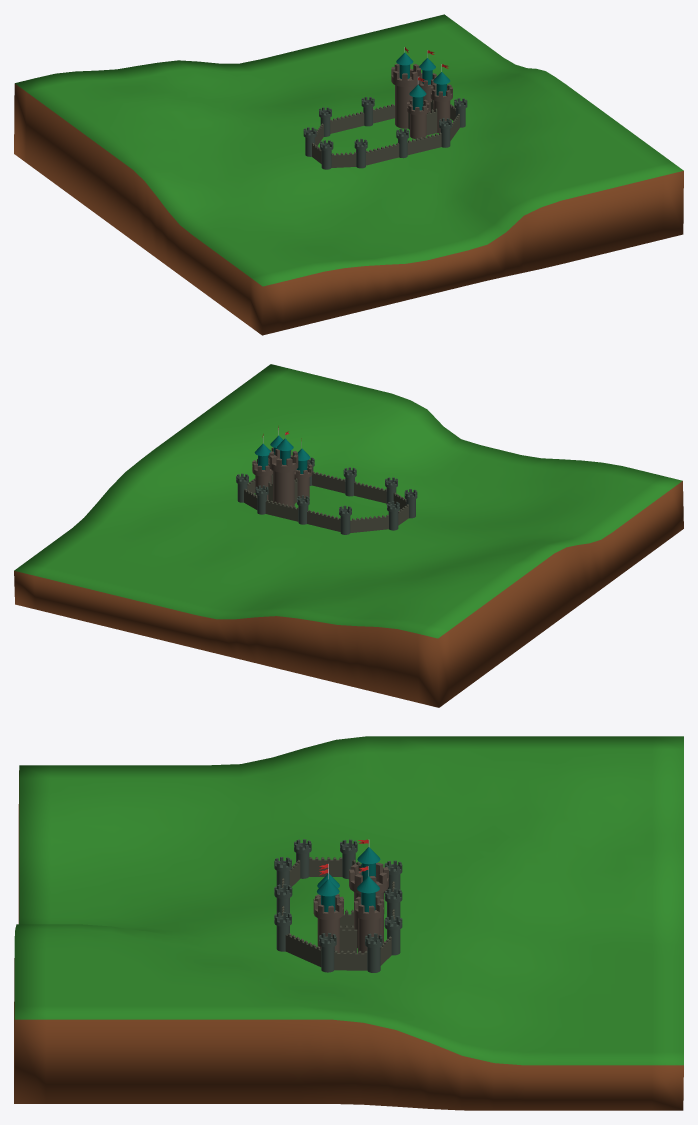
File: castillo.gltf
The picture shows the model from 3 angles, top to bottom: view 1: azimuth 30°, elevation 25°; view 2: azimuth 150°, elevation 25°; view 3: azimuth 270°, elevation 25°; orthographic projection. The views are drawn at different scales.
Parts seen in each view (by area): view 1: Plane, Torre.013, Torre.012, Torre.011; view 2: Plane, Torre.013; view 3: Plane, Torre.010, Torre.011, Torre.013, Torre.002, Torre.001.
Part boxes in pixels (<box>): Plane: <box>14,14,683,335</box>; Torre.013: <box>391,63,420,128</box>; Torre.012: <box>407,99,429,139</box>; Torre.011: <box>430,83,452,133</box>; Plane: <box>14,364,683,707</box>; Torre.013: <box>269,449,298,507</box>; Plane: <box>14,736,683,1110</box>; Torre.010: <box>354,895,384,953</box>; Torre.011: <box>313,895,343,952</box>; Torre.013: <box>349,862,388,947</box>; Torre.002: <box>365,933,382,972</box>; Torre.001: <box>319,933,336,972</box>.
Size of the model in its own units: 91.55 by 25.63 by 92.09.
